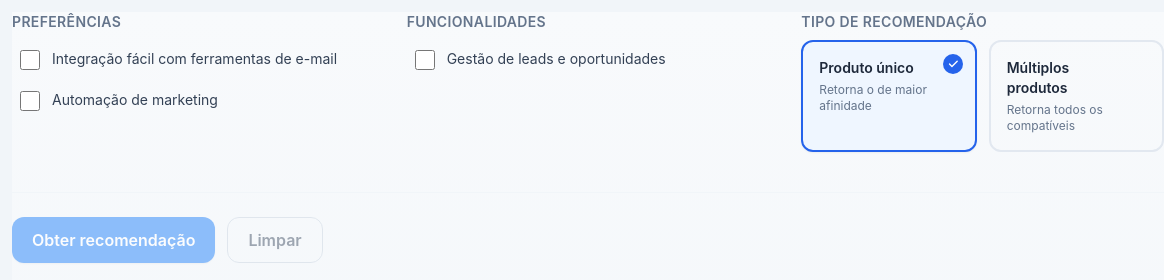
Test case: Form (presentational) › submit button is disabled when no preference or feature is selected
Expected: the button "Obter recomendação" is disabled, [12,217,215,263]
Click the checkbox labelled "Integração fácil com ferramentas de e-mail" at (30, 60), box [20,50,40,70]
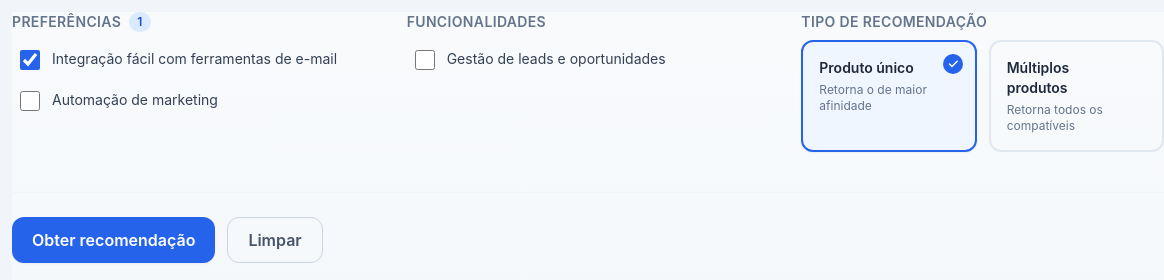
Now the button "Obter recomendação" is enabled, box [12,217,215,263]
